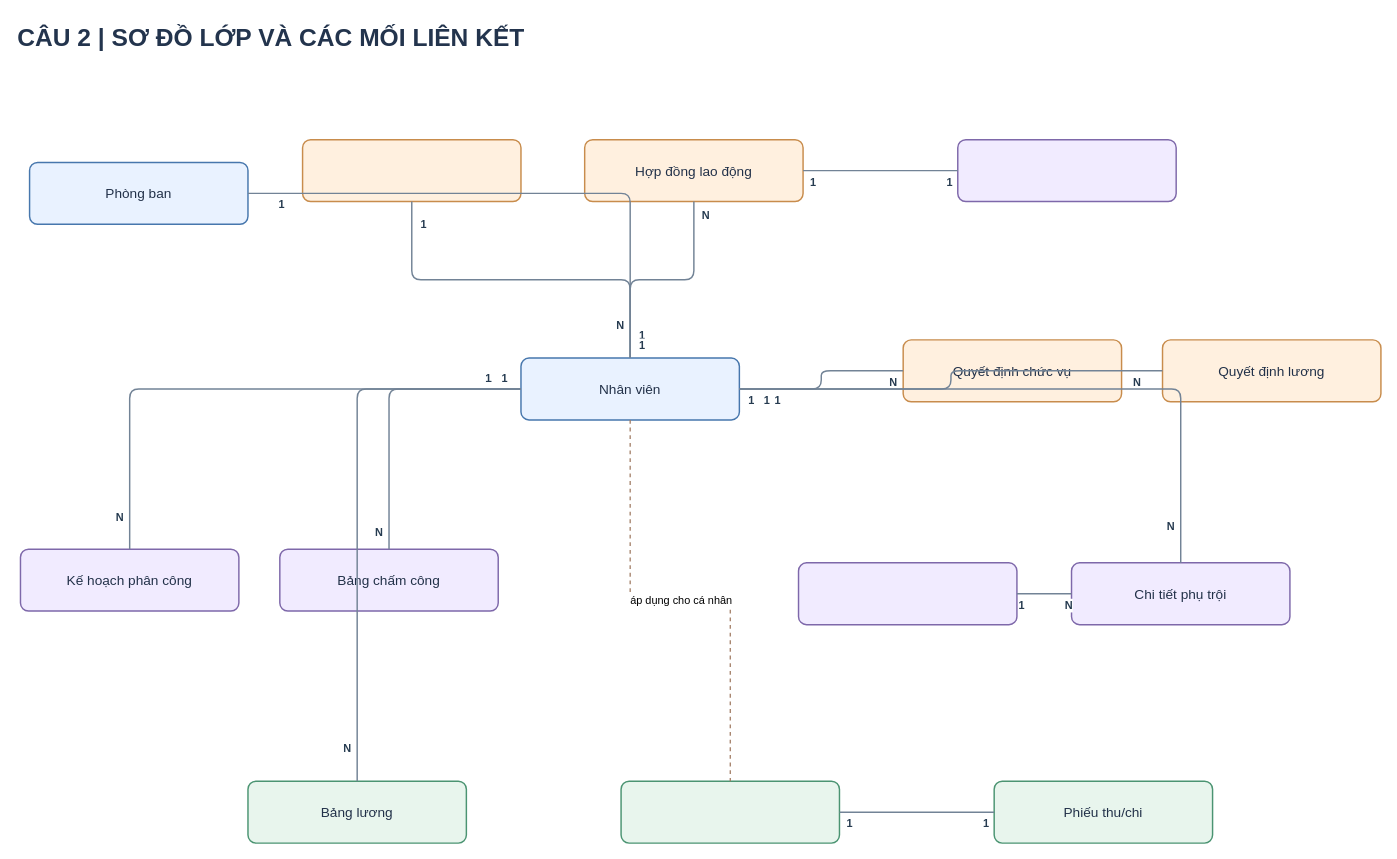
Some shapes in this 1397 by 859 pixel diagram are drawn without their labels. The centre of each missing label's shape, as x and y in pixels:
Hồ sơ bảo hiểm: (x=1066, y=170)
Phiếu phụ trội: (x=907, y=593)
Quyết định thưởng/phạt: (x=730, y=811)
Quyết định tuyển dụng: (x=411, y=170)
